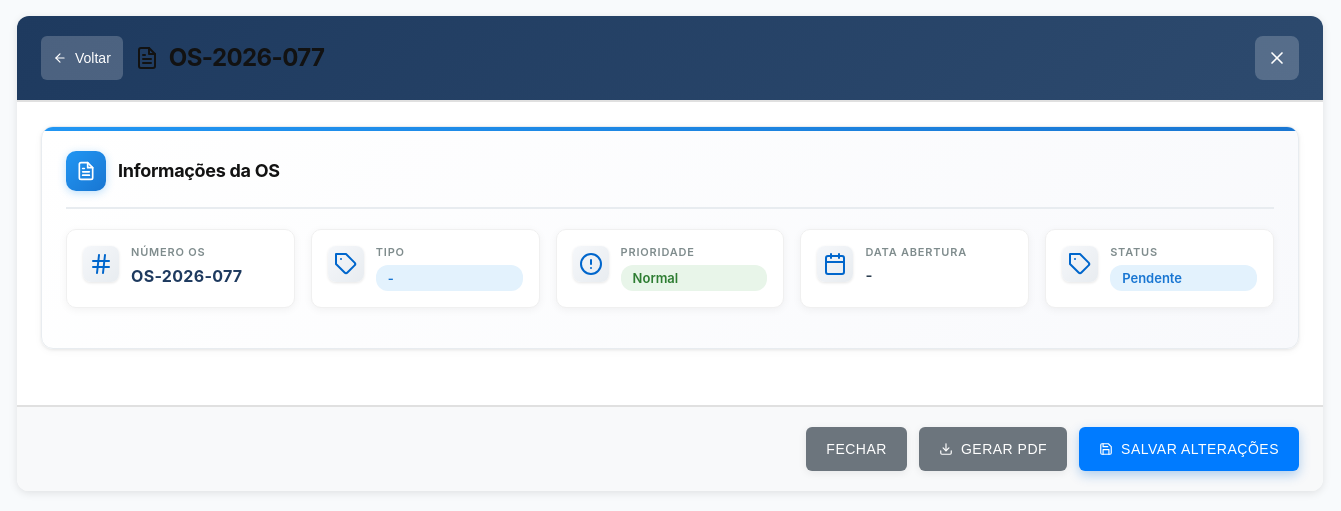
Test: (f) bloqueador de pop-up na geracao: toast manda clicar em VER PDF, e o botao aparece
Click the button "GERAR PDF" at (993, 449), box [919,427,1067,471]
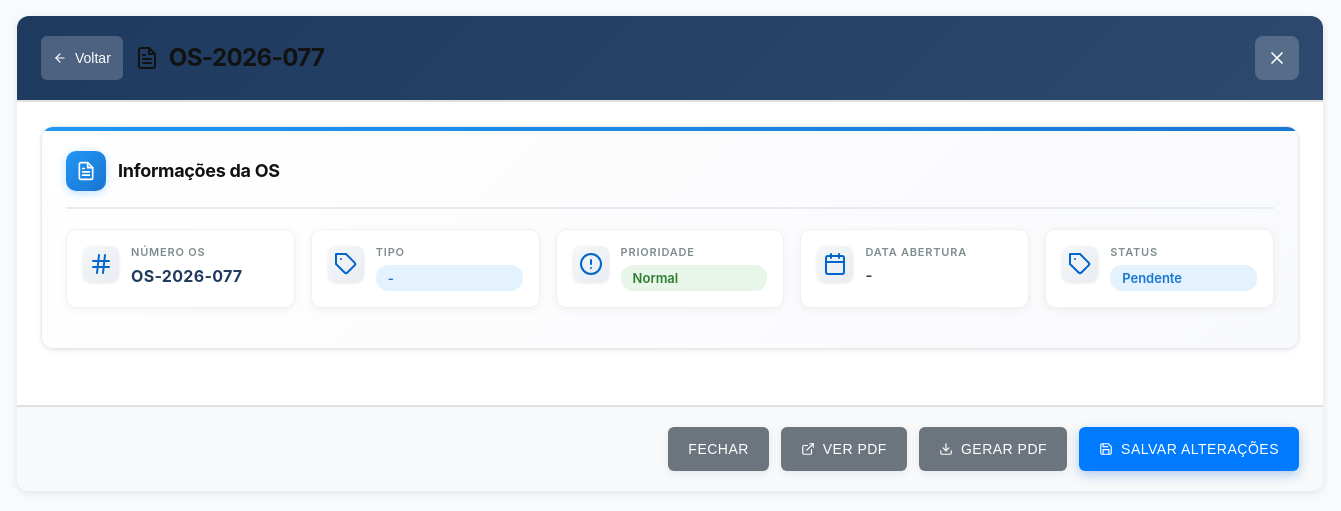
Expected: the button "VER PDF" is shown, [781,427,907,471]
